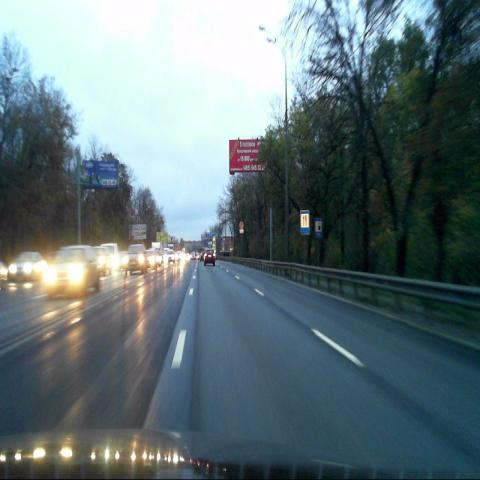7_7: (300, 210, 309, 235)
